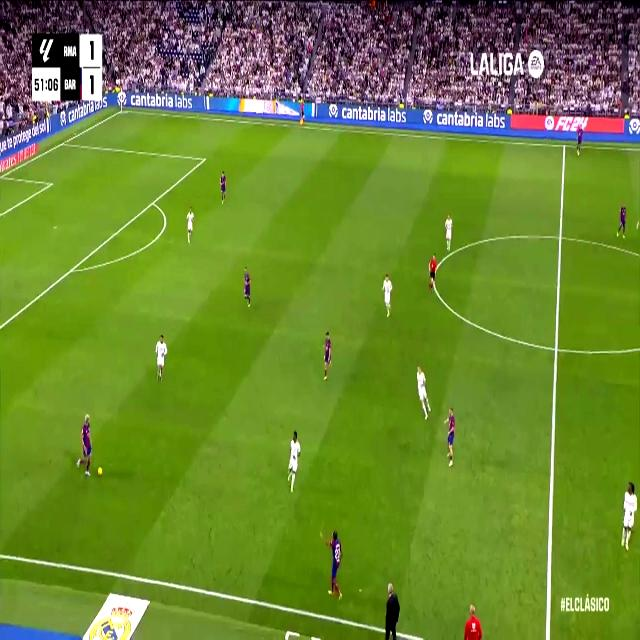bigarea_top_inner: (201, 153, 206, 164)
bigarea_top_outter: (59, 136, 67, 148)
bottom_arc_area_intersection: (68, 260, 76, 278)
corner: (118, 105, 125, 115)
halfcircle_bottom: (551, 334, 563, 362)
halfcircle_top: (555, 226, 567, 248)
midline_top_intersection: (561, 140, 568, 152)
smallarea_top_inner: (48, 179, 53, 188)
top_arc_area_intersection: (149, 194, 157, 210)
